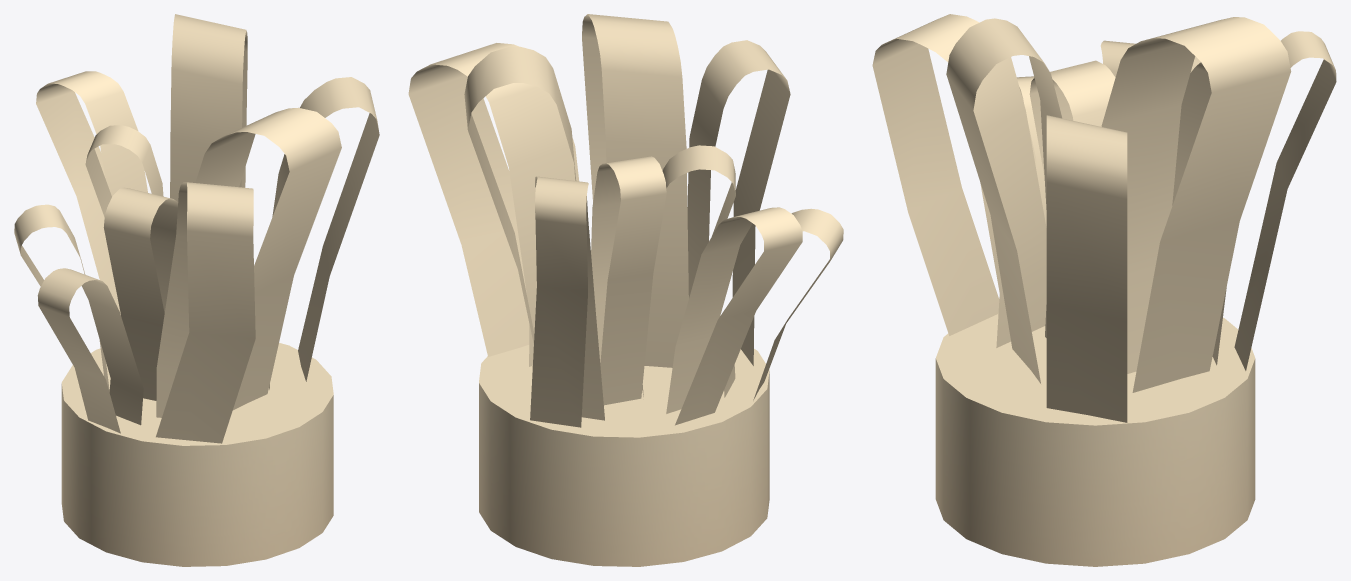
The model's file is turkeyhat.fbx.
3 renders of one model, left to right at view 1: azimuth 30°, elevation 25°; view 2: azimuth 150°, elevation 25°; view 3: azimuth 270°, elevation 25°, orthographic. The views are drawn at different scales.
Visible parts, largest first — view 1: turkeyhat; view 2: turkeyhat; view 3: turkeyhat.
Part boxes in pixels (x1,y1,x2,y2): turkeyhat: (14, 14, 379, 566); turkeyhat: (408, 14, 843, 566); turkeyhat: (872, 14, 1336, 566).
Bounding box in the file's own units: 98.7 × 112 × 93.14.
